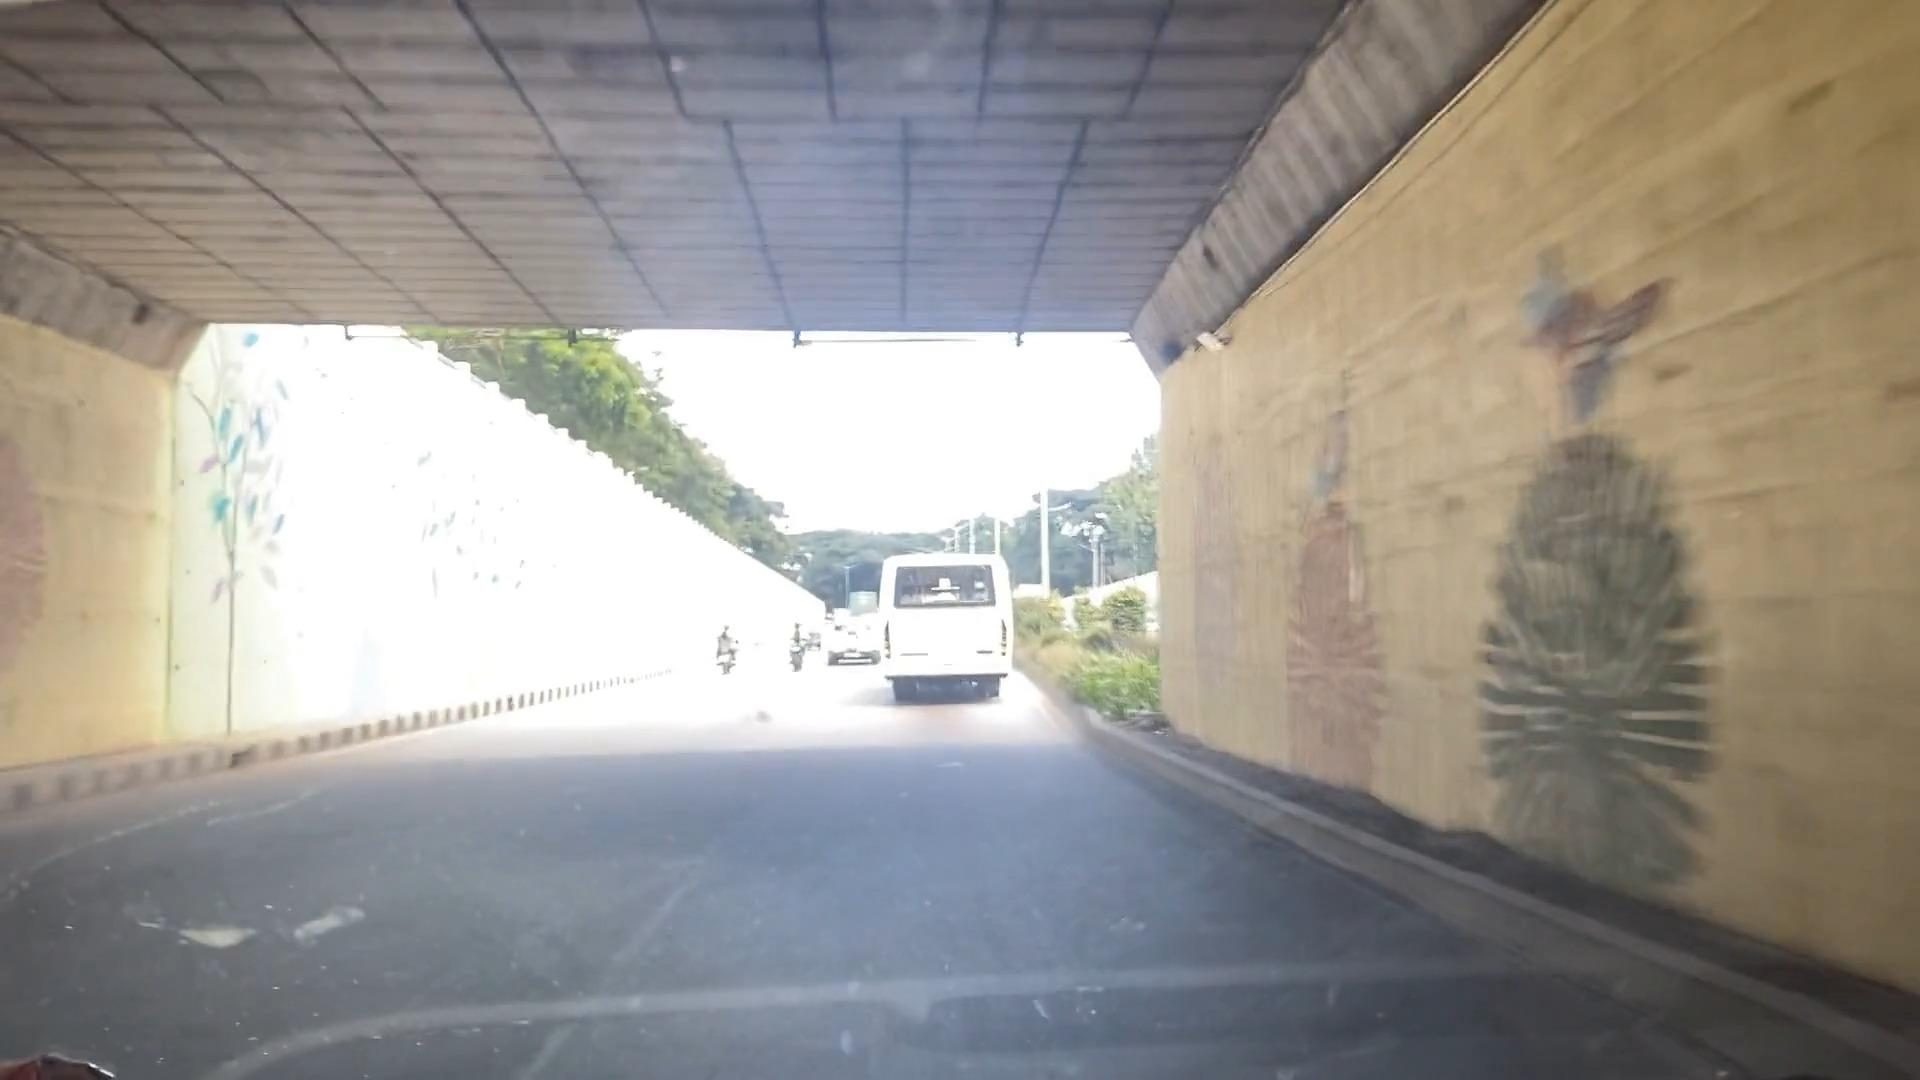HMV: (886, 562, 1014, 719)
